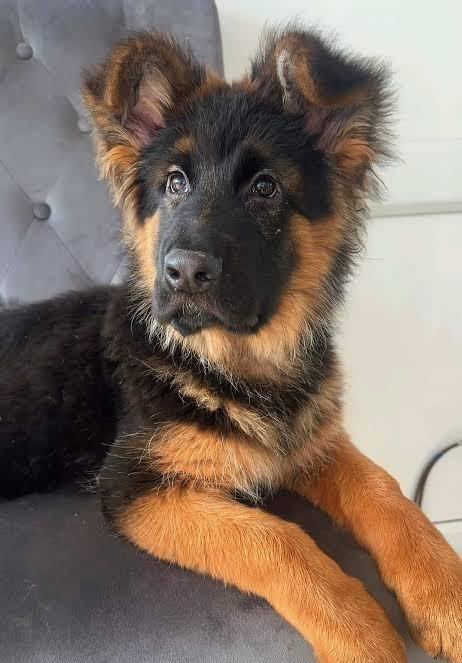puppy-dog: (0, 24, 462, 663)
